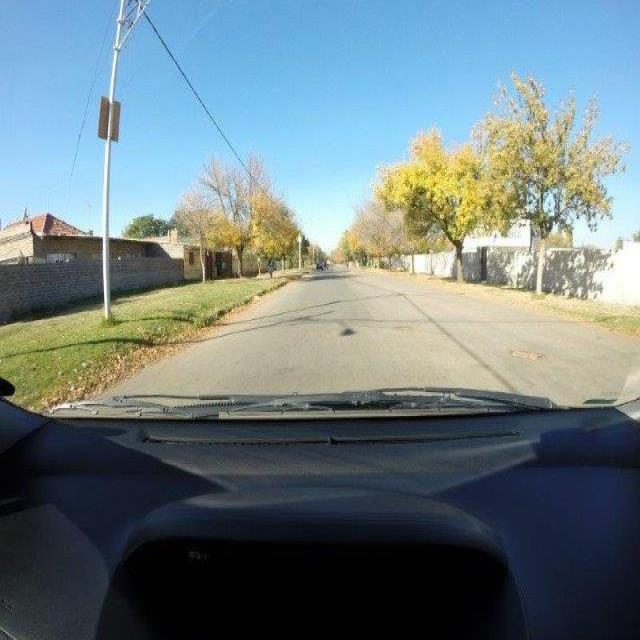lubang: (504, 348, 541, 363)
